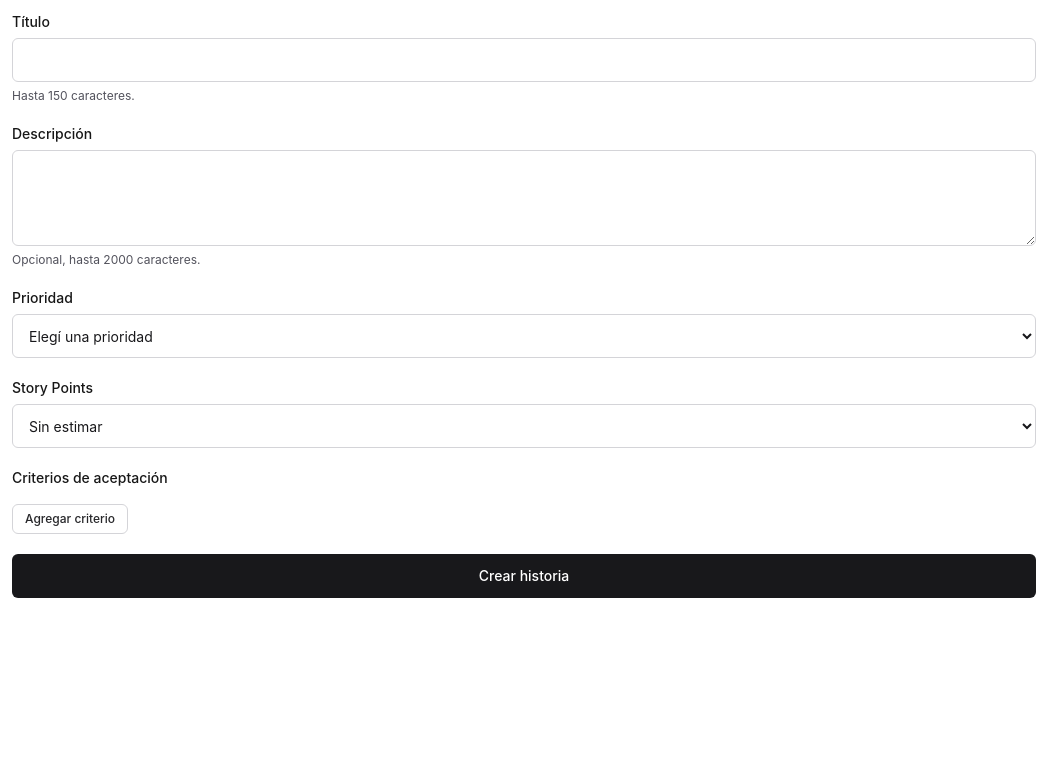
Test case: 003/US1 - Registrar una historia en el backlog › Solo título y prioridad
Type "Revisar los permisos de los integrantes" into the field labelled "Título" at {"x": 524, "y": 60}, box [12,38,1036,82]
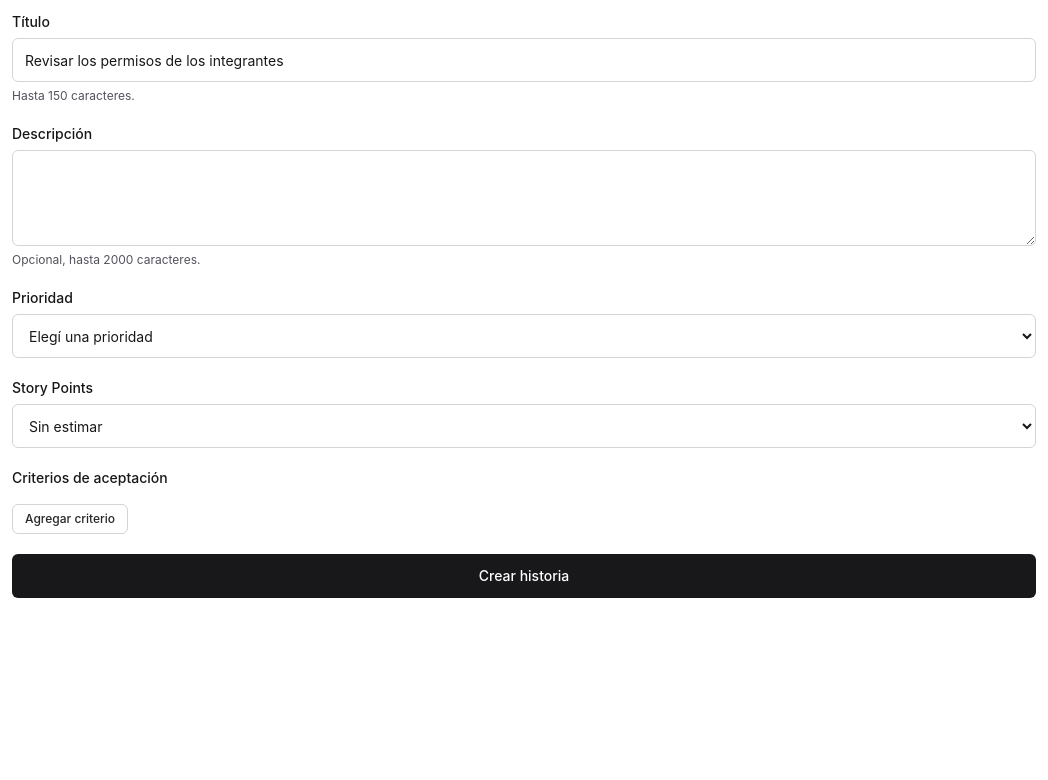
Select "Baja" in the dropdown labelled "Prioridad" at {"x": 524, "y": 336}, box [12,314,1036,358]
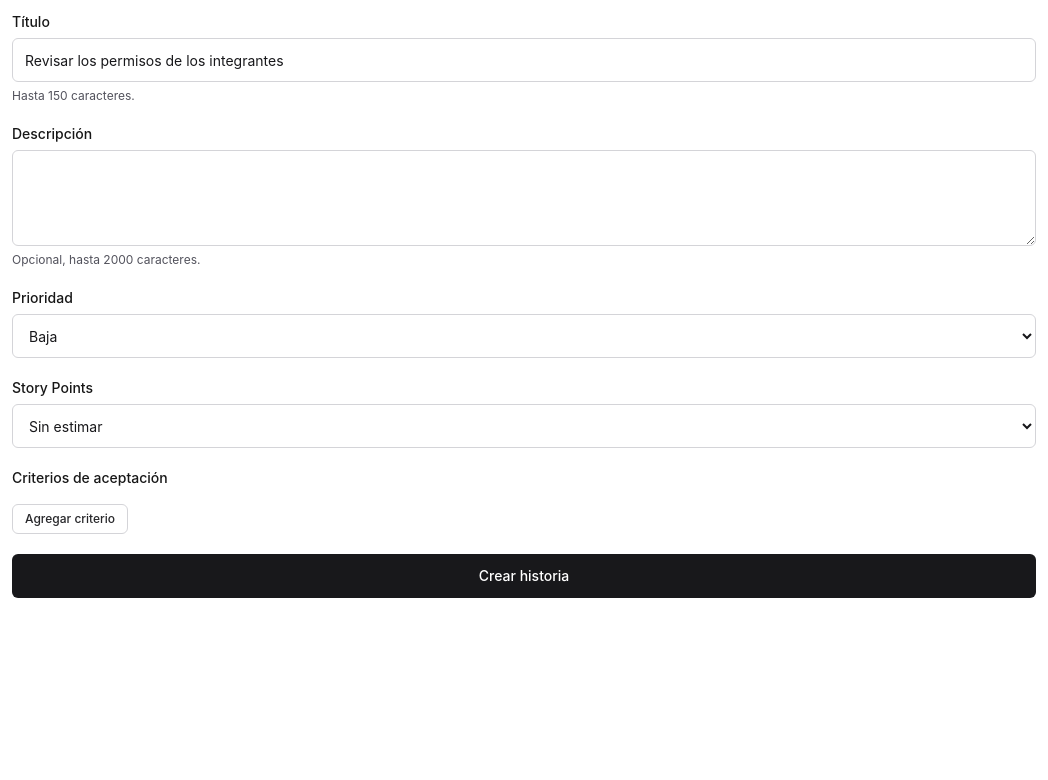
Click the button "Crear historia" at {"x": 524, "y": 576}, box [12,554,1036,598]
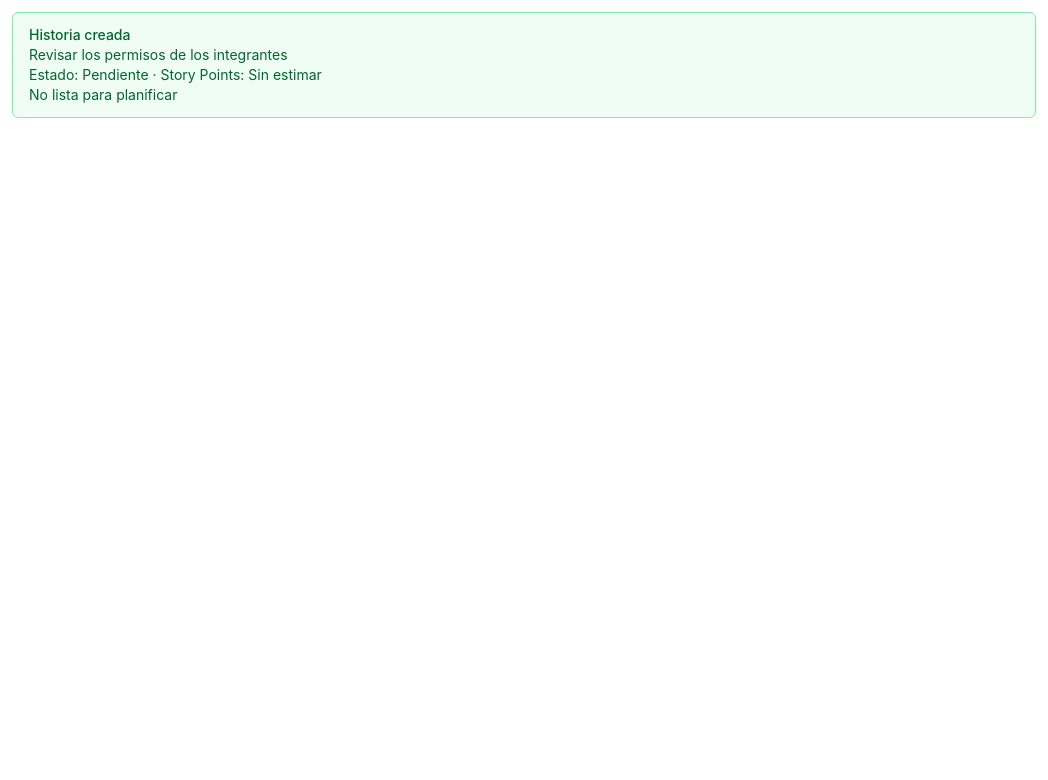
Expected: the text "Historia creada" is shown, [29,26,130,43]
Expected: the text "Revisar los permisos de los integrantes" is shown, [29,46,288,63]
Expected: the text "Pendiente" is shown, [82,66,149,83]
